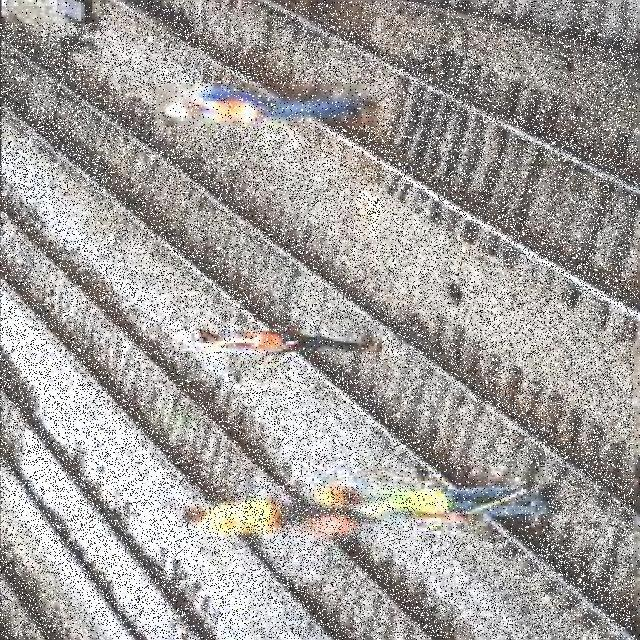danger: (303, 468, 548, 534), (163, 486, 415, 548), (157, 84, 375, 126), (169, 333, 382, 352)
rail: (0, 23, 634, 640), (0, 192, 485, 639), (99, 2, 638, 326)
